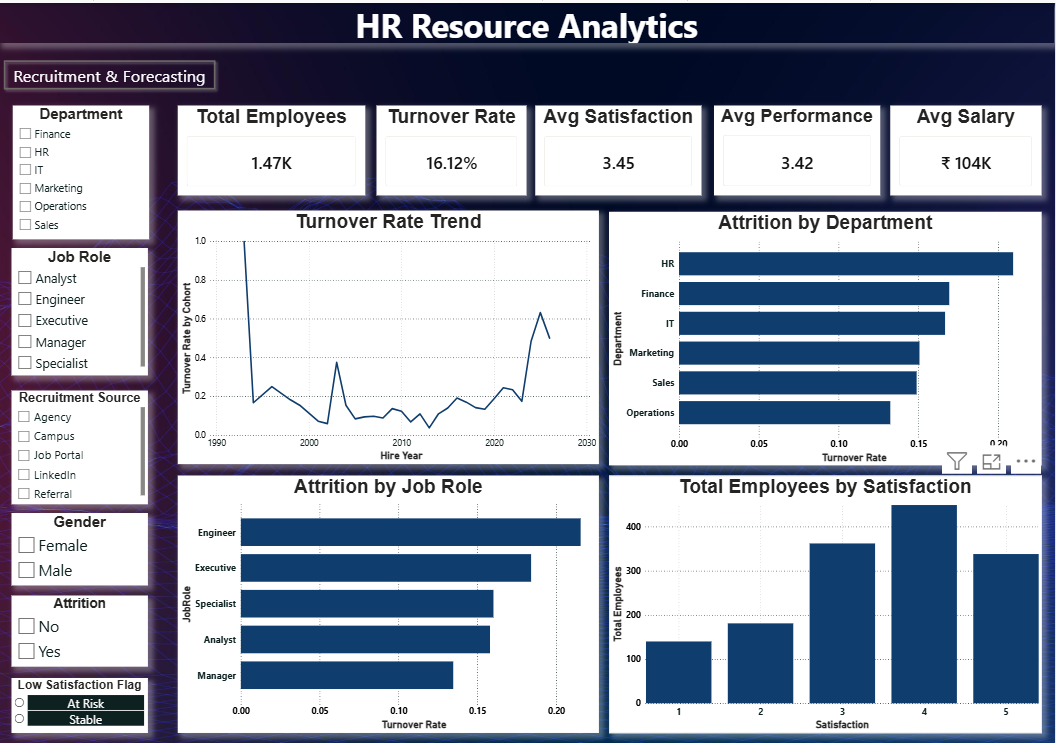

Layout of this report page (visuals, bound fields, positions):
{"tool":"powerbi","page":{"name":"Overview & Attrition","canvas":[1980,1400],"ordinal":0},"visuals":[{"type":"shape","title":"HR Resources Analytics","box":[0,0,1979.9,75.1],"z":0},{"type":"cardVisual","title":"Total Employees","fields":{"Data":["HR Resource Analytics.Total Employees"]},"box":[335.5,192.4,351.9,168.9],"z":1000},{"type":"cardVisual","title":"Turnover Rate","fields":{"Data":["HR Resource Analytics.Turnover Rate"]},"box":[708.4,192.4,281.5,168.9],"z":2000},{"type":"cardVisual","title":"Avg Satisfaction","fields":{"Data":["HR Resource Analytics.Avg Satisfaction"]},"box":[1006.4,192.4,312,168.9],"z":3000},{"type":"cardVisual","title":"Avg Performance ","fields":{"Data":["HR Resource Analytics.Avg Performance Rating"]},"box":[1341.8,192.4,312,168.9],"z":4000},{"type":"cardVisual","title":"Avg Salary","fields":{"Data":["HR Resource Analytics.Avg Salary"]},"box":[1672.6,192.4,283.8,168.9],"z":5000},{"type":"lineChart","title":"Turnover Rate Trend","fields":{"Category":["HR Resource Analytics.Hire Year"],"Y":["HR Resource Analytics.Turnover Rate by Cohort"]},"box":[335.5,389.4,790.6,476.2],"z":6000},{"type":"clusteredBarChart","title":"Attrition by Department","fields":{"Category":["HR Resource Analytics.Department"],"Y":["HR Resource Analytics.Turnover Rate"]},"box":[1144.8,391.8,811.7,476.2],"z":7000},{"type":"clusteredBarChart","title":"Attrition by Job Role","fields":{"Category":["HR Resource Analytics.JobRole"],"Y":["HR Resource Analytics.Turnover Rate"]},"box":[335.5,886.7,790.6,483.2],"z":8000},{"type":"clusteredColumnChart","fields":{"Category":["HR Resource Analytics.Satisfaction"],"Y":["HR Resource Analytics.Total Employees"]},"box":[1144.8,886.7,811.7,483.2],"z":9000},{"type":"listSlicer","fields":{"Values":["HR Resource Analytics.Low Satisfaction Flag"]},"box":[23.5,1266.8,255.7,103.2],"z":10000},{"type":"slicer","title":"Attrition","fields":{"Values":["HR Resource Analytics.Attrition"]},"box":[23.5,1111.9,255.7,133.7],"z":11000},{"type":"slicer","title":"Gender","fields":{"Values":["HR Resource Analytics.Gender"]},"box":[23.5,957.1,255.7,136.1],"z":12000},{"type":"slicer","title":"Recruitment Source","fields":{"Values":["HR Resource Analytics.RecruitmentSource"]},"box":[23.5,727.2,255.7,213.5],"z":13000},{"type":"slicer","title":"Job Role","fields":{"Values":["HR Resource Analytics.JobRole"]},"box":[23.5,459.8,255.7,239.3],"z":14000},{"type":"slicer","title":"Department","fields":{"Values":["HR Resource Analytics.Department"]},"box":[25.8,192.4,255.7,251],"z":15000},{"type":"actionButton","title":"Recruitment & Forecasting","box":[0,98.5,415.2,72.7],"z":16001}]}

Visuals, with their boxes in screenshot pixels (x1, y1, x2, y2), scaled from the page's 1980x1400 canvas onto the 1056x743 screenshot:
"HR Resources Analytics" shape: (0, 0, 1055, 40)
"Total Employees" cardVisual: (179, 102, 367, 192)
"Turnover Rate" cardVisual: (378, 102, 528, 192)
"Avg Satisfaction" cardVisual: (537, 102, 703, 192)
"Avg Performance " cardVisual: (716, 102, 882, 192)
"Avg Salary" cardVisual: (892, 102, 1043, 192)
"Turnover Rate Trend" lineChart: (179, 207, 601, 459)
"Attrition by Department" clusteredBarChart: (611, 208, 1043, 461)
"Attrition by Job Role" clusteredBarChart: (179, 471, 601, 727)
clusteredColumnChart - HR Resource Analytics.Satisfaction x HR Resource Analytics.Total Employees: (611, 471, 1043, 727)
listSlicer - HR Resource Analytics.Low Satisfaction Flag: (13, 672, 149, 727)
"Attrition" slicer: (13, 590, 149, 661)
"Gender" slicer: (13, 508, 149, 580)
"Recruitment Source" slicer: (13, 386, 149, 499)
"Job Role" slicer: (13, 244, 149, 371)
"Department" slicer: (14, 102, 150, 235)
"Recruitment & Forecasting" actionButton: (0, 52, 221, 91)
